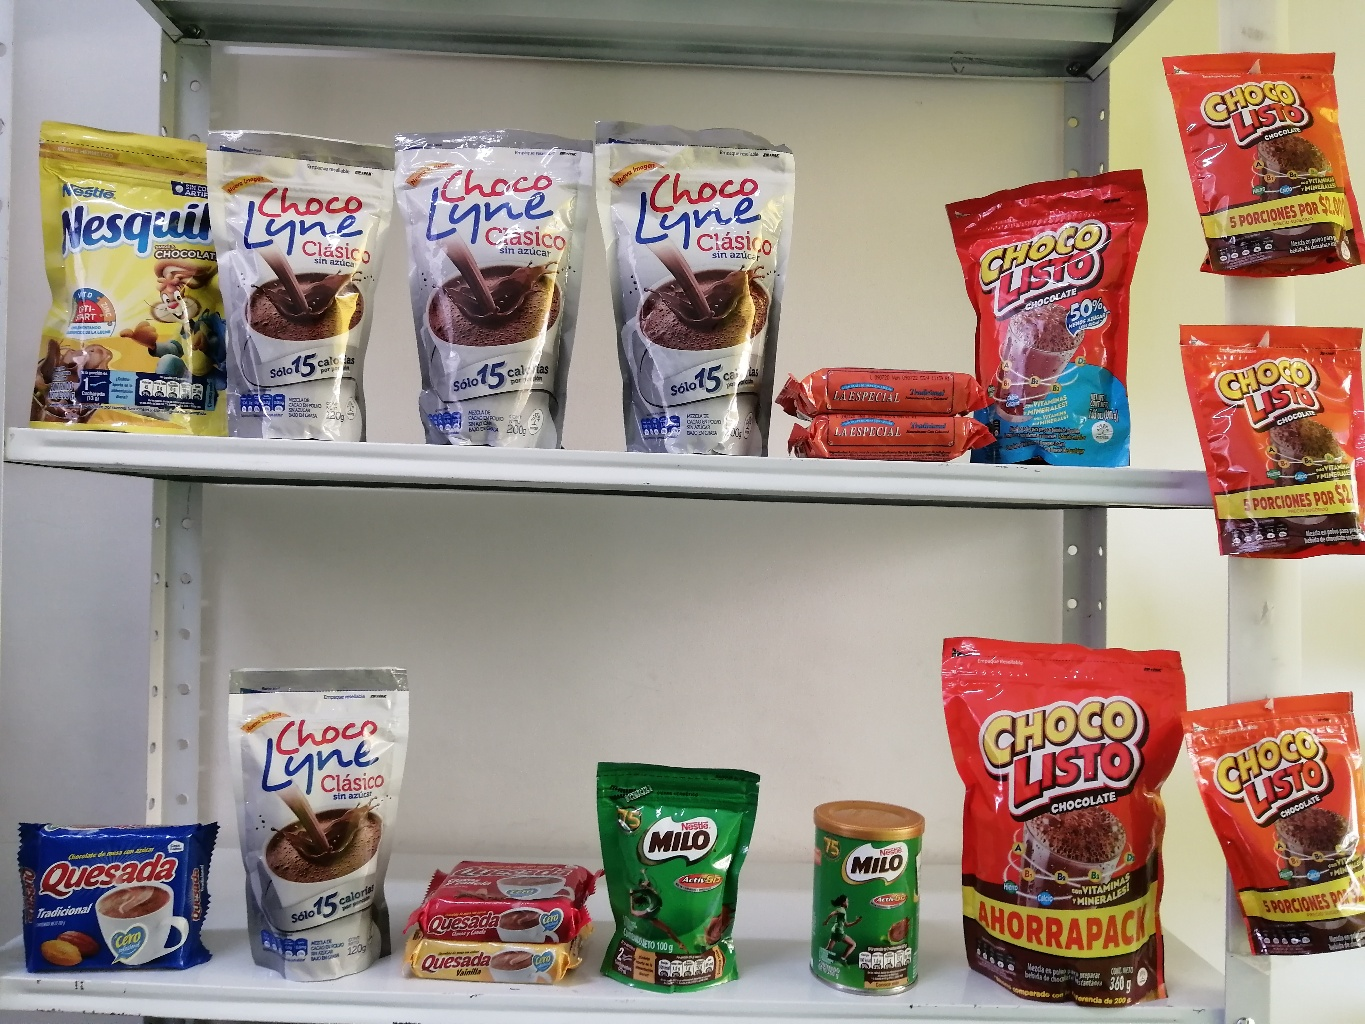COL0170103DYP36000: (944, 636, 1198, 1009)
COL0170104DYP20000: (942, 145, 1155, 474)
COL0170203DYP10000: (593, 745, 764, 998)
COL0170203LAT20000: (809, 778, 942, 998)
COL0170303DYP20000: (29, 115, 236, 445)
